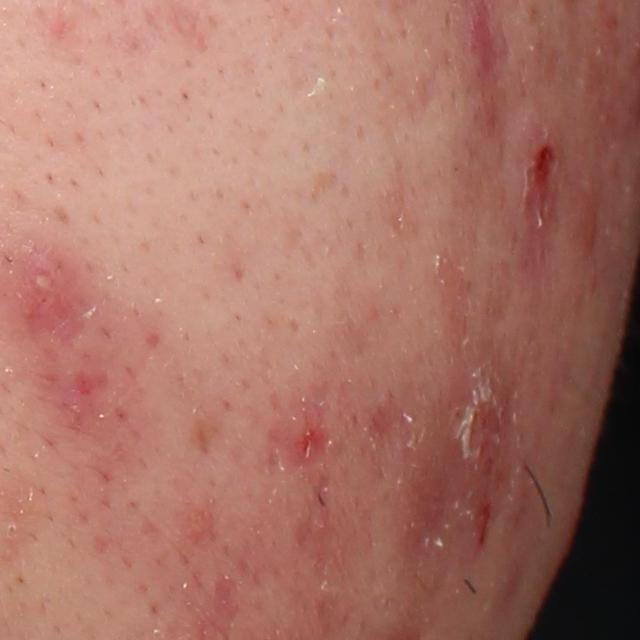papule: (516, 114, 560, 224), (291, 406, 329, 466)
